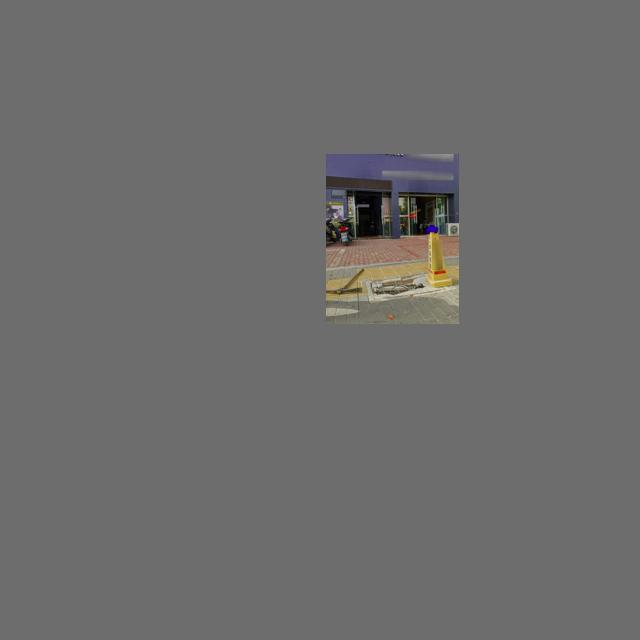broke: (363, 273, 448, 301)
